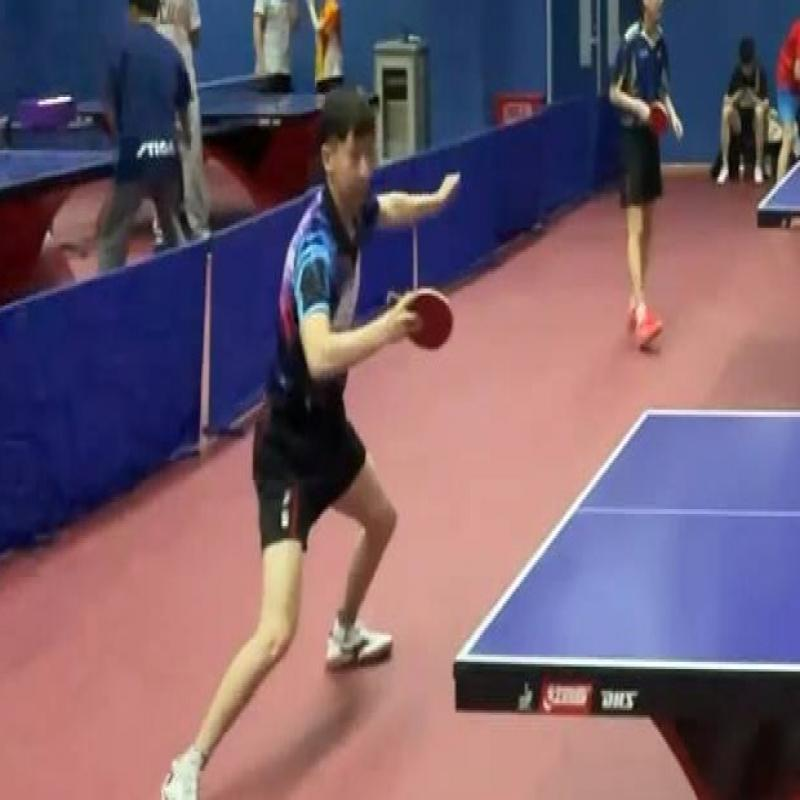bats: (394, 269, 457, 369)
